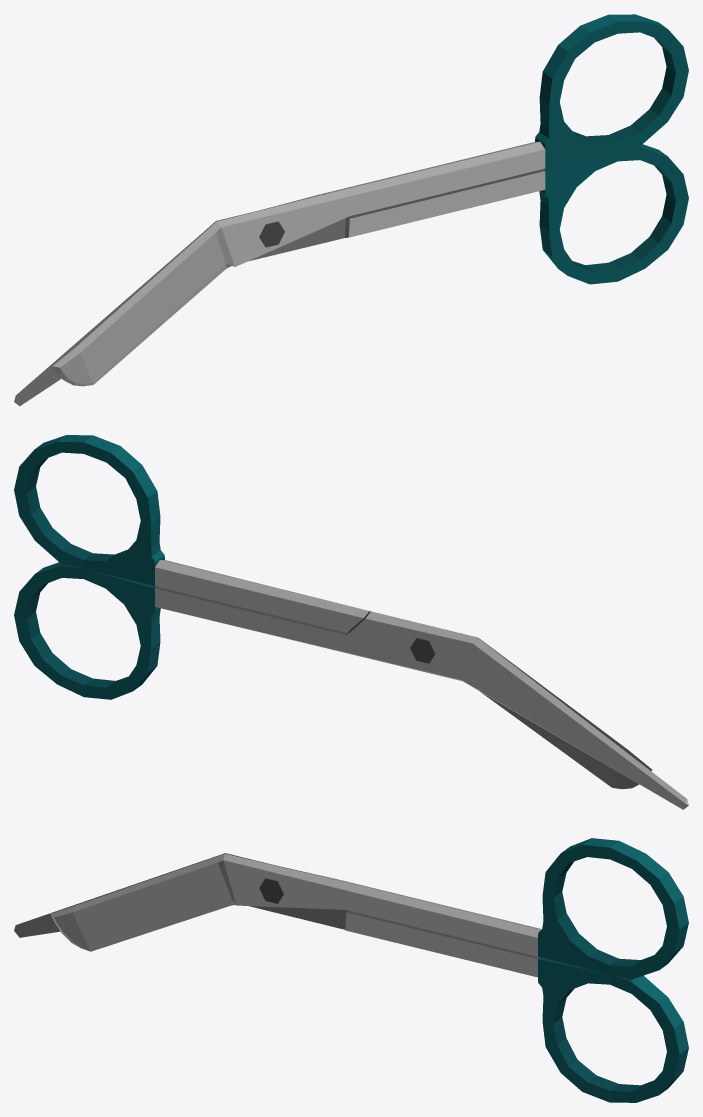
The model's file is BandageScissors.fbx.
3 views of the same model, one above another, from view 1: azimuth 30°, elevation 25°; view 2: azimuth 150°, elevation 25°; view 3: azimuth 330°, elevation 25° (orthographic).
Parts seen in each view (by area): view 1: ZomboidBandageScissors; view 2: ZomboidBandageScissors; view 3: ZomboidBandageScissors.
Part boxes in pixels (x1=…): ZomboidBandageScissors: x1=14, y1=14, x2=688, y2=406; ZomboidBandageScissors: x1=14, y1=435, x2=688, y2=809; ZomboidBandageScissors: x1=14, y1=838, x2=688, y2=1102.
Size of the model in its own units: 0.1957 by 0.0718 by 0.00779.
